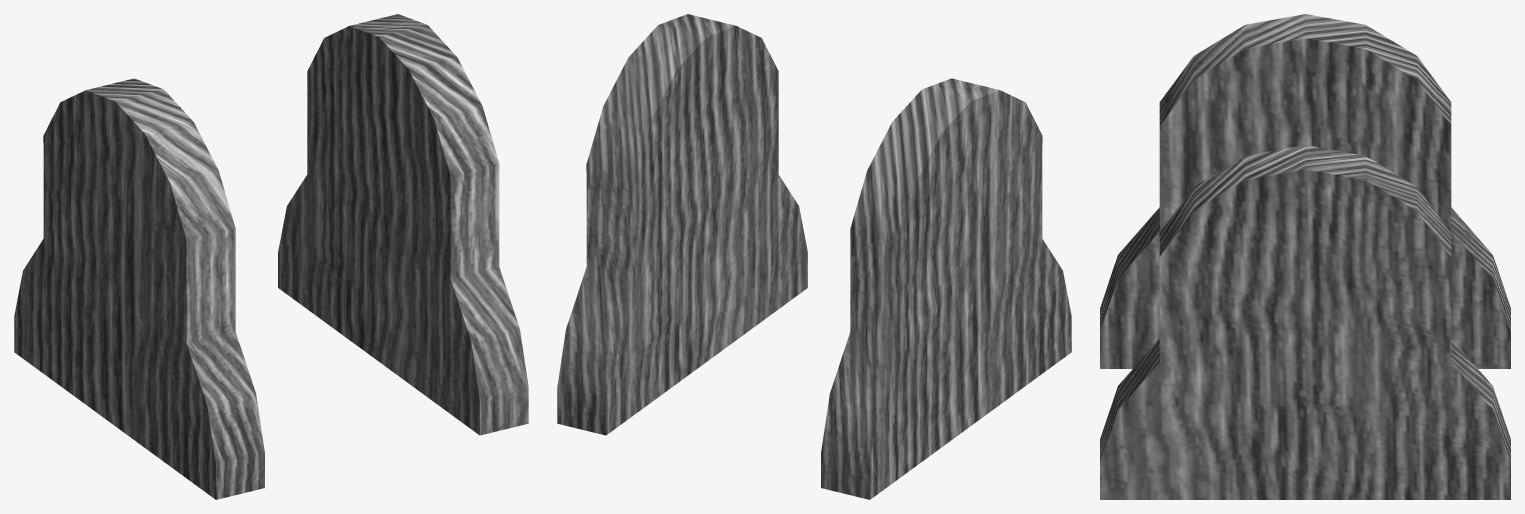
The model's file is CannonWoodFrame.FBX.
3 views of the same model, side by side, from view 1: azimuth 30°, elevation 25°; view 2: azimuth 150°, elevation 25°; view 3: azimuth 270°, elevation 25° (orthographic).
Parts seen in each view (by area): view 1: CannonWoodFrame; view 2: CannonWoodFrame; view 3: CannonWoodFrame.
Part boxes in pixels (<box>): CannonWoodFrame: <box>14,14,528,499</box>; CannonWoodFrame: <box>557,14,1071,499</box>; CannonWoodFrame: <box>1100,14,1510,499</box>.
Bounding box in the file's own units: 326 × 364 × 324.
